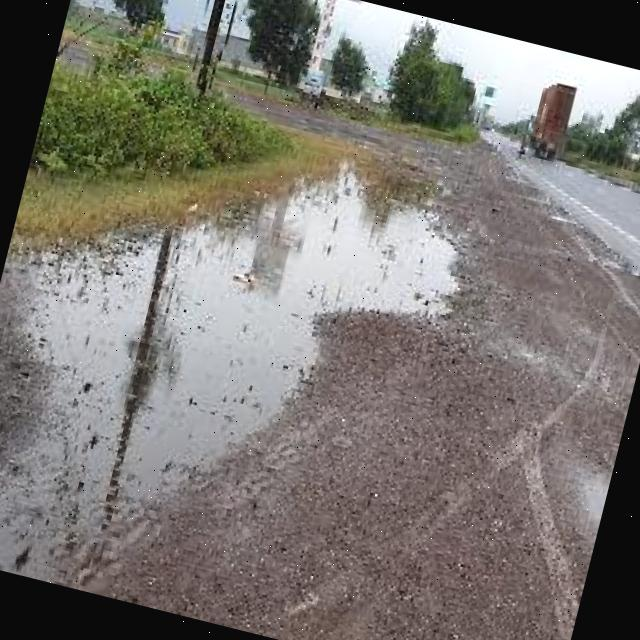stagnation: (0, 204, 487, 600)
